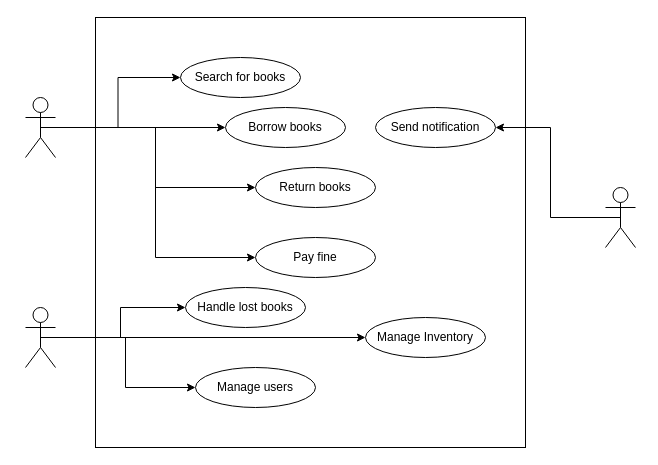
This 658x465 diagram has some shape labels left out. The shapes that lost their labels are listed below. From the top down, each one's centre as x and y in pixels, then its label:
[40,127]: User
[620,217]: System
[40,337]: Librarian
